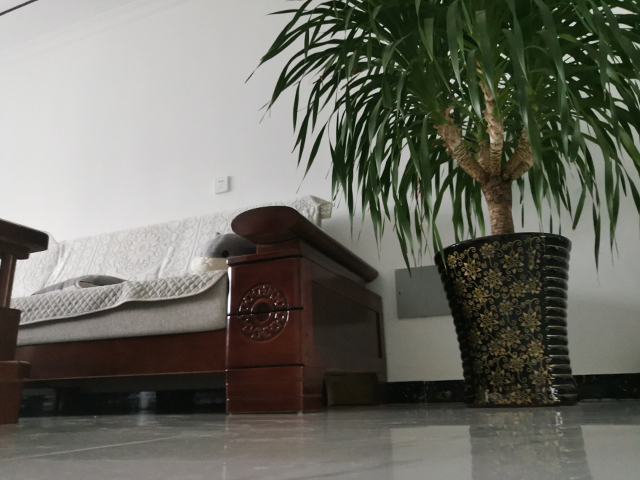sofa: (1, 193, 392, 417)
table: (1, 217, 51, 426)
